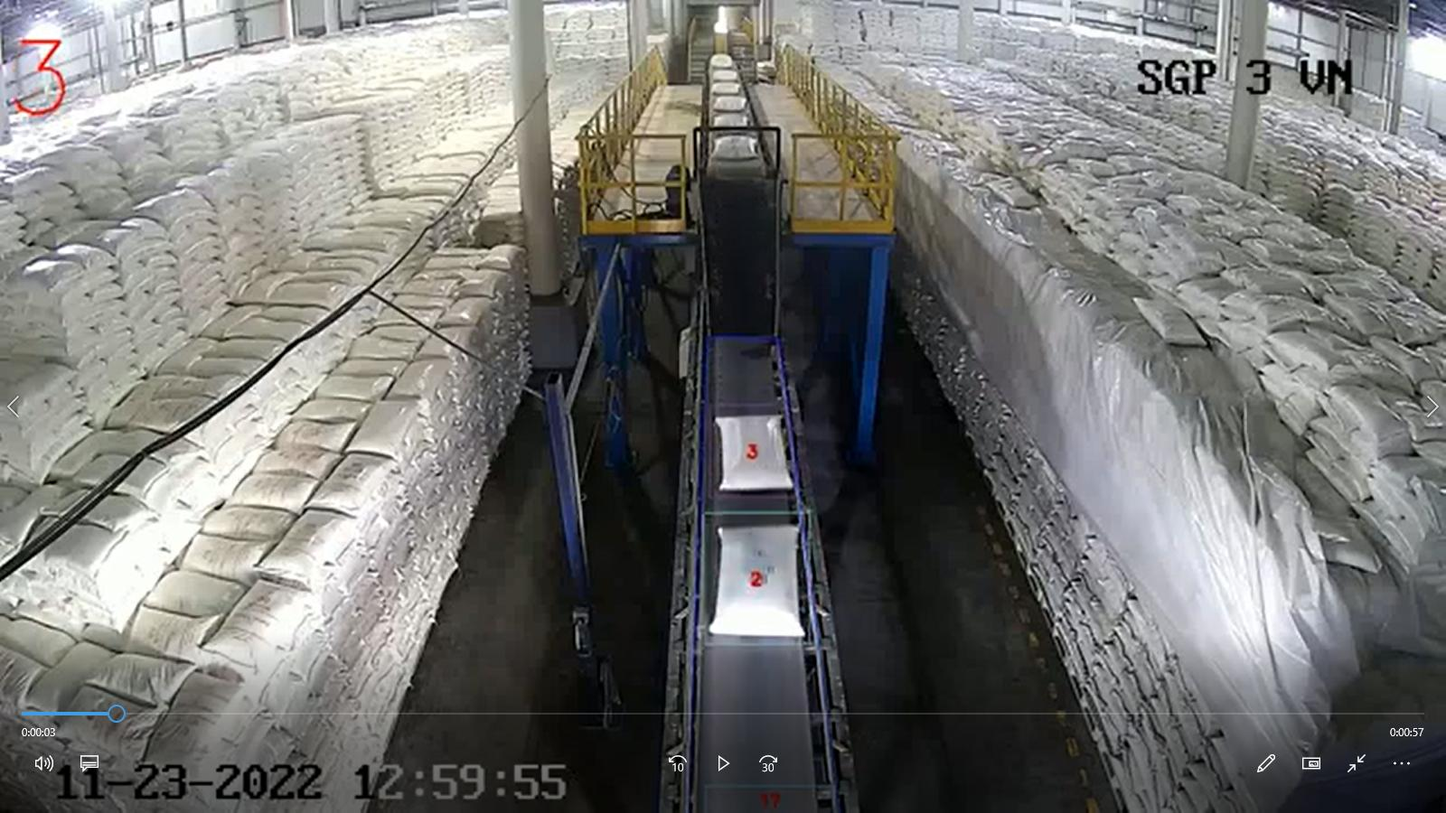rice-bag: (709, 524, 804, 638), (715, 416, 793, 491)
